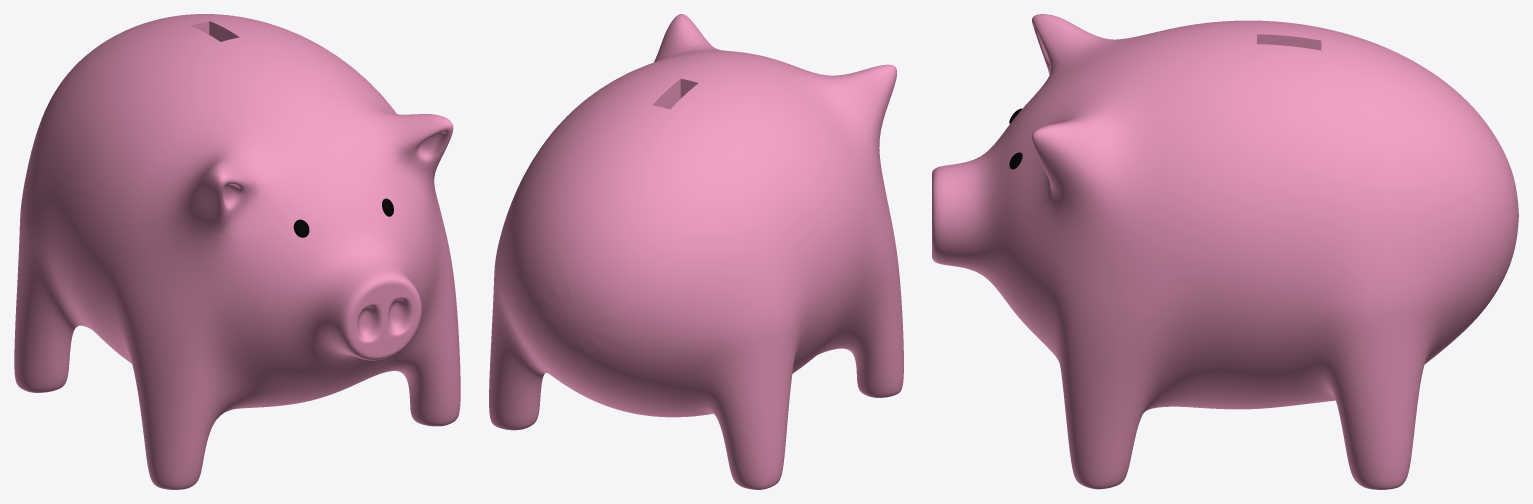
The model's file is Piggy_Model.fbx.
3 renders of one model, left to right at view 1: azimuth 30°, elevation 25°; view 2: azimuth 150°, elevation 25°; view 3: azimuth 270°, elevation 25°, orthographic. The views are drawn at different scales.
Parts seen in each view (by area): view 1: Sphere; view 2: Sphere; view 3: Sphere.
Boxes of the visible parts, x1,y1,x2,y2 form: Sphere: (14, 14, 460, 489); Sphere: (489, 14, 903, 489); Sphere: (932, 14, 1518, 489).
Bounding box in the file's own units: 34.33 × 36.55 × 51.86.
